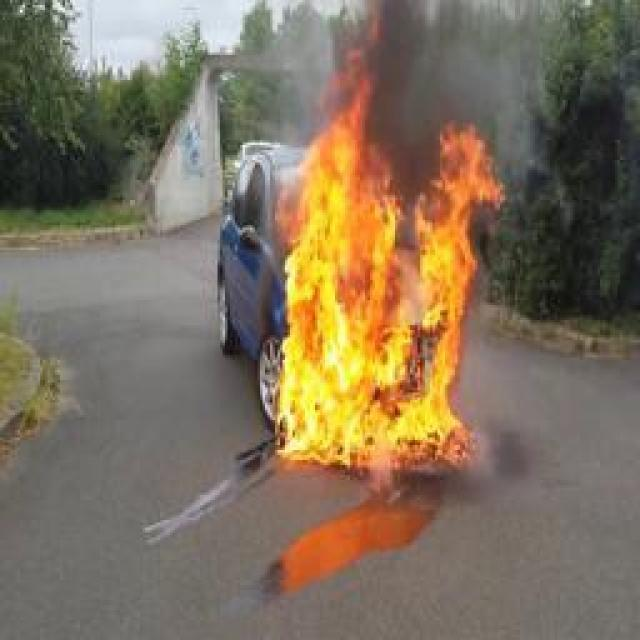Fire: (279, 1, 509, 454)
